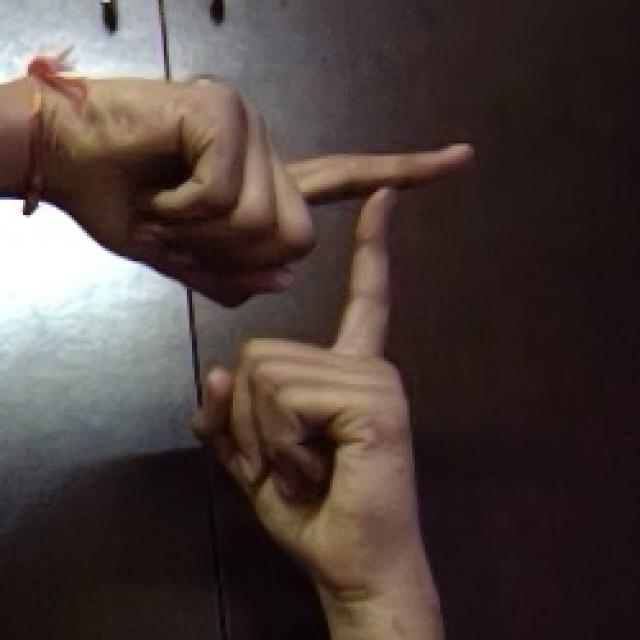Alphabet-T: (6, 63, 473, 636)
